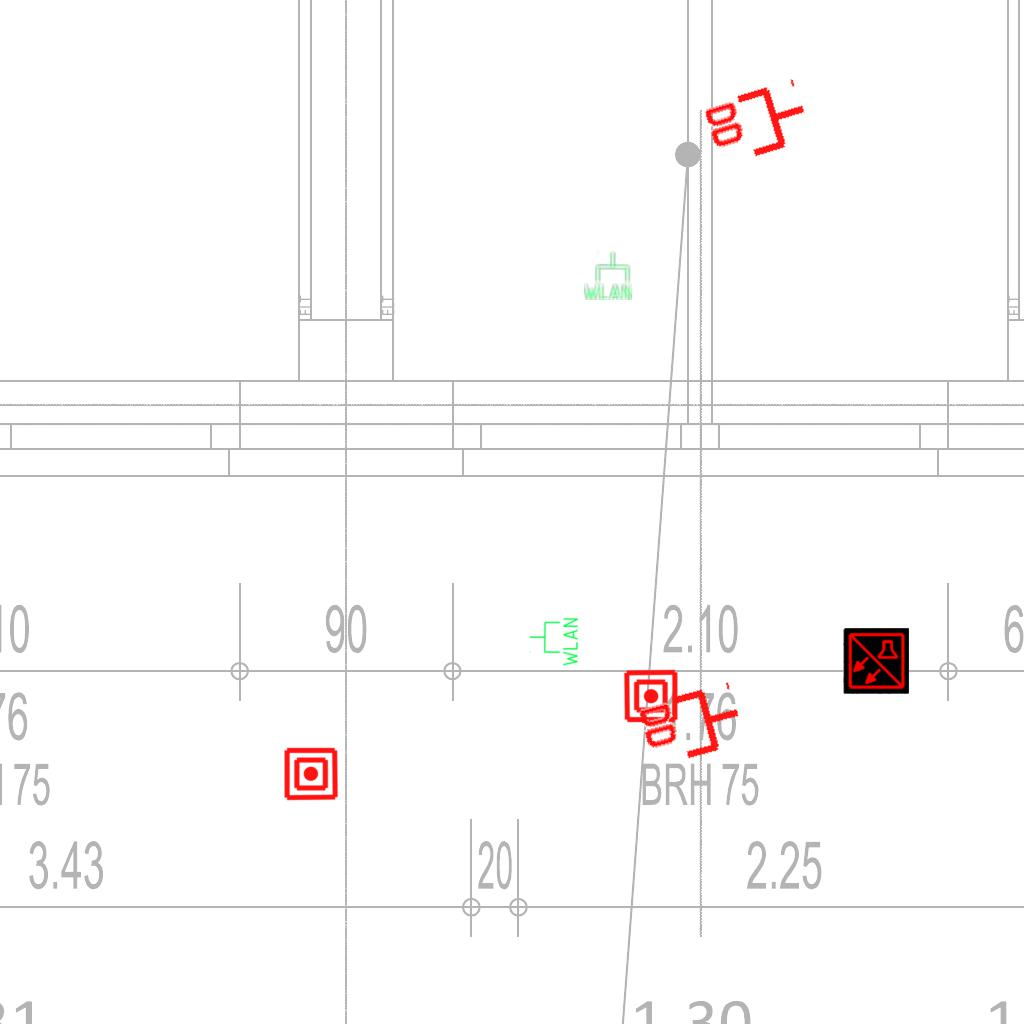Datenanschluss_zweifach: (698, 76, 817, 173), (632, 679, 751, 774)
NAM-Nichtautomatischer_Melder: (283, 746, 339, 802), (623, 668, 679, 724)
OKW_Multisensormelder_(Kombination_optischer_Rauch-Kahlenmonoxid_Waerme-Melder): (843, 628, 909, 694)
WLAN: (582, 250, 634, 302), (528, 616, 580, 668)
